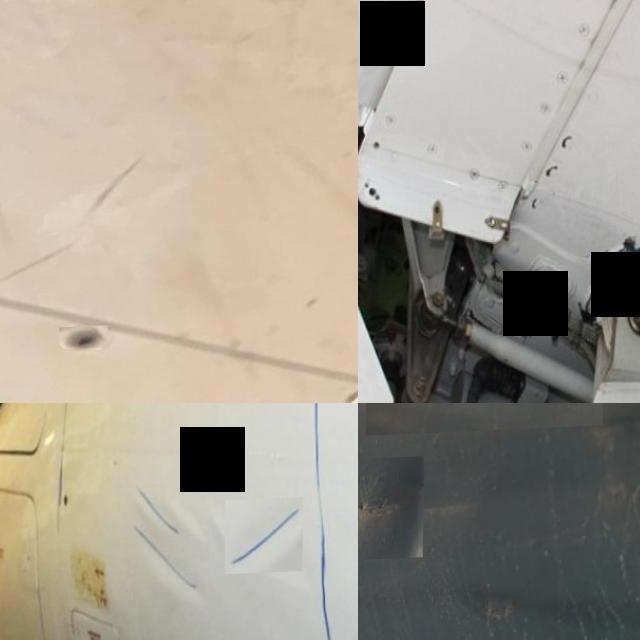Crack: (584, 240, 640, 328)
Dent: (358, 458, 424, 564), (226, 502, 303, 577), (128, 522, 197, 598)
Missing_Fastener: (60, 329, 110, 353)
